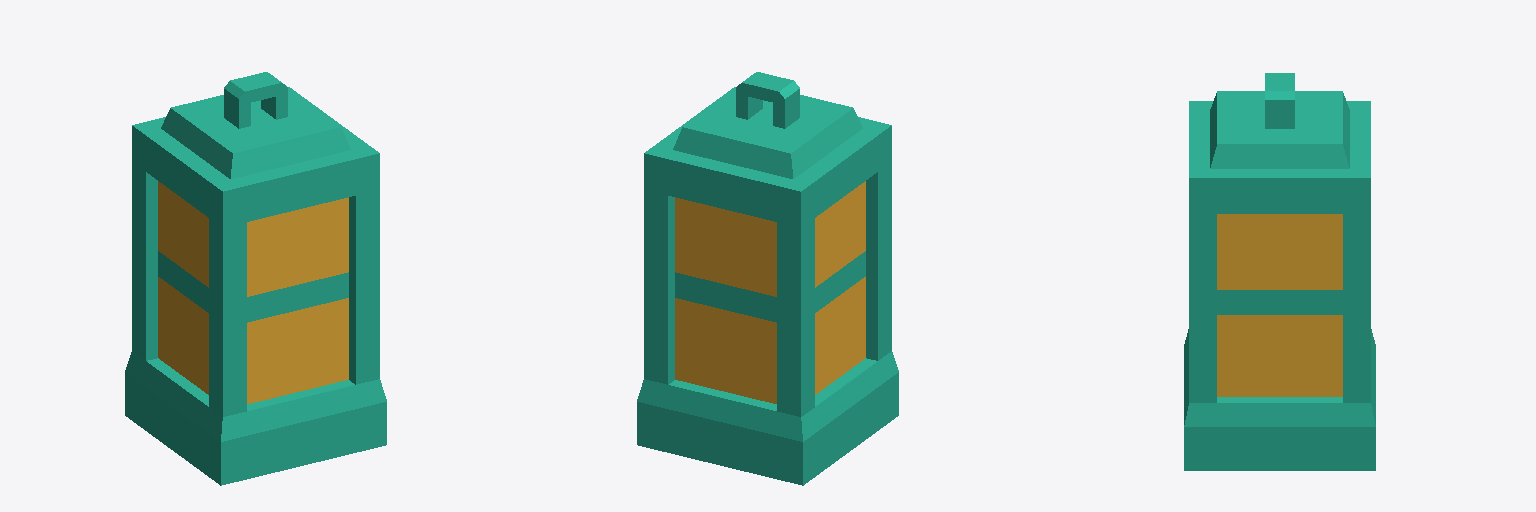
File: lanternGlass.obj
3 views of the same model, side by side, from view 1: azimuth 30°, elevation 25°; view 2: azimuth 150°, elevation 25°; view 3: azimuth 270°, elevation 25° (orthographic).
Visible parts, largest first — view 1: lanternGlass; view 2: lanternGlass; view 3: lanternGlass.
Boxes of the visible parts, box(x1,y1,x2,y2) form: lanternGlass: box(125, 72, 386, 485); lanternGlass: box(637, 72, 898, 485); lanternGlass: box(1184, 73, 1375, 470).
Bounding box in the file's own units: 0.1459 × 0.2923 × 0.1459.